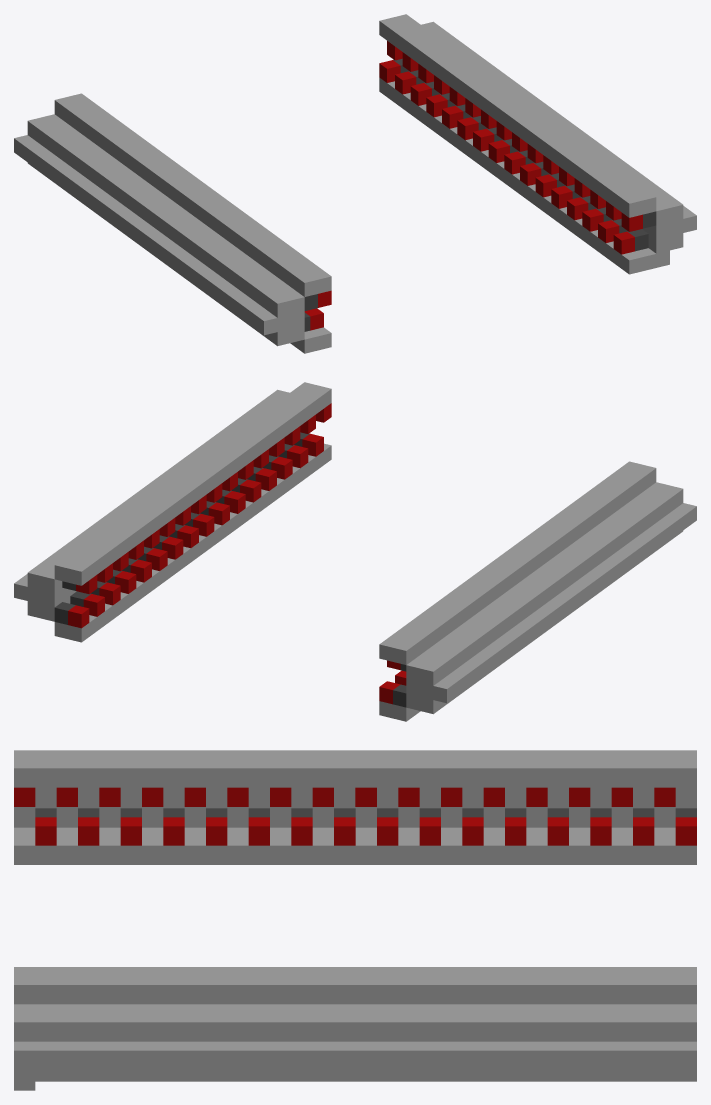
The model's file is panelthing.gltf.
3 renders of one model, top to bottom at view 1: azimuth 30°, elevation 25°; view 2: azimuth 150°, elevation 25°; view 3: azimuth 270°, elevation 25°, orthographic. The views are drawn at different scales.
Parts seen in each view (by area): view 1: Layer.1; view 2: Layer.1; view 3: Layer.1.
Part boxes in pixels (x1,y1,x2,y2): Layer.1: [14, 14, 696, 353]; Layer.1: [14, 382, 696, 721]; Layer.1: [14, 750, 696, 1090].
Size of the model in its own units: 32 by 5 by 32.
Materials: 1 (1 with a texture image).
